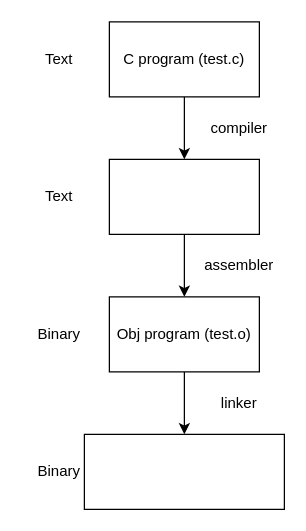
This 306x531 diagram has some shape labels left out. Each missing label, with the centre of its shape:
"Asm program (test.s)" belongs at point (183, 196).
"executable program (test)" belongs at point (183, 471).
